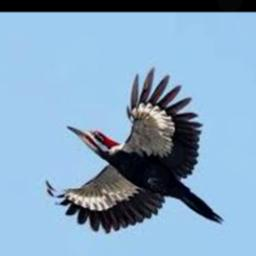Woodpecker: (45, 66, 223, 232)
